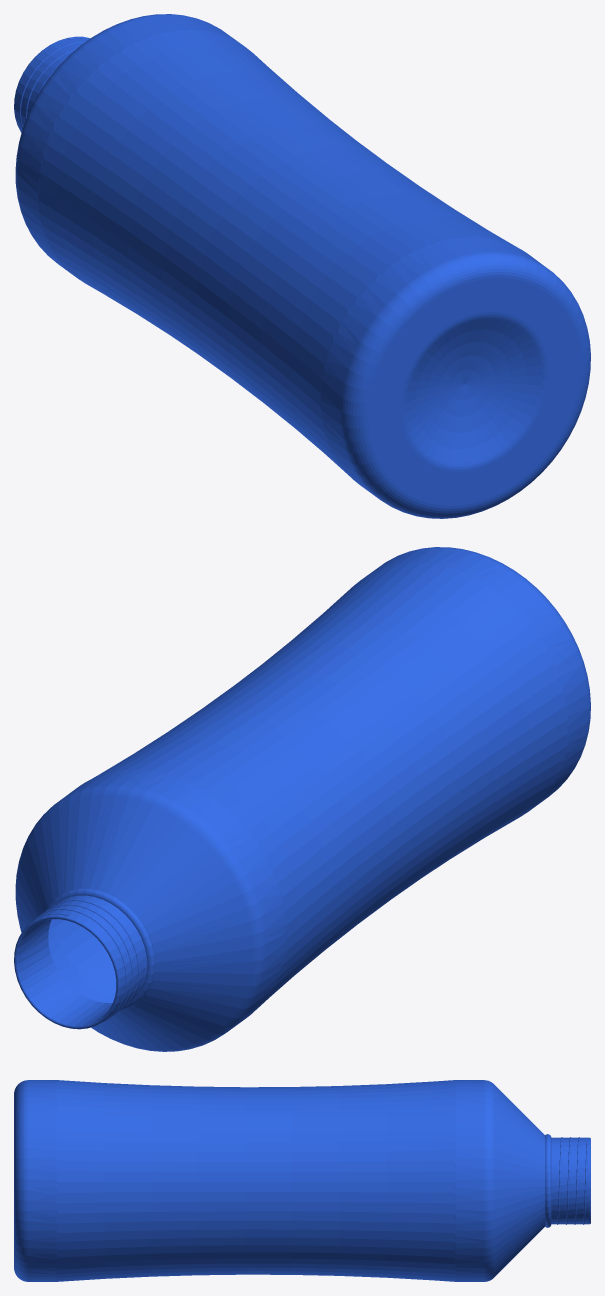
The model's file is bottle.dae.
3 views of the same model, one above another, from view 1: azimuth 30°, elevation 25°; view 2: azimuth 150°, elevation 25°; view 3: azimuth 270°, elevation 25° (orthographic). The views are drawn at different scales.
Parts seen in each view (by area): view 1: Bottle; view 2: Bottle; view 3: Bottle.
Boxes of the visible parts, x1=… form: Bottle: x1=14, y1=14, x2=590, y2=518; Bottle: x1=14, y1=547, x2=590, y2=1051; Bottle: x1=14, y1=1080, x2=590, y2=1281.
Bounding box in the file's own units: 0.07 × 0.2 × 0.07.
